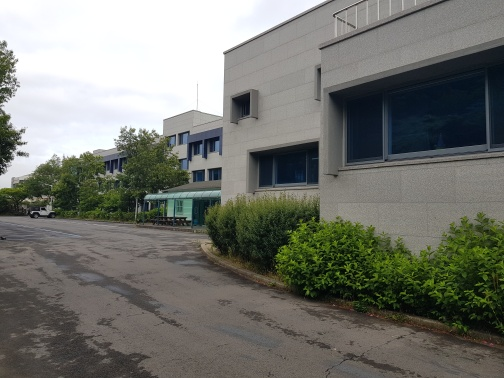College of Social Sciences: (84, 14, 494, 263)
